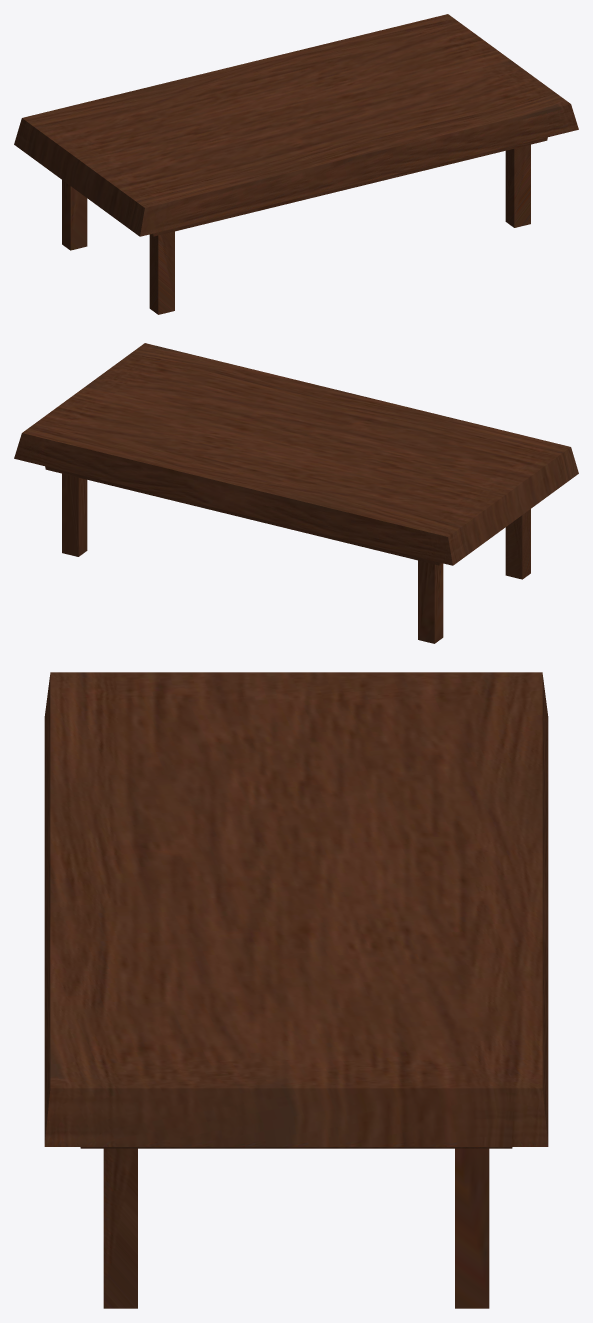
The model's file is sofatable_vi.fbx.
3 renders of one model, top to bottom at view 1: azimuth 30°, elevation 25°; view 2: azimuth 150°, elevation 25°; view 3: azimuth 270°, elevation 25°, orthographic. The views are drawn at different scales.
Parts seen in each view (by area): view 1: sofaTable; view 2: sofaTable; view 3: sofaTable.
Part boxes in pixels (x1=…): sofaTable: x1=14, y1=14, x2=578, y2=314; sofaTable: x1=14, y1=343, x2=578, y2=643; sofaTable: x1=44, y1=672, x2=548, y2=1308.
Size of the model in its own units: 0.0259 by 0.00695 by 0.0129.
Materials: 1 (1 with a texture image).
